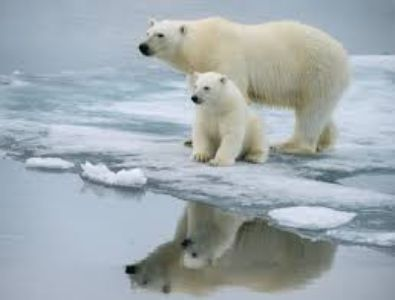bear: (145, 17, 349, 98), (189, 70, 267, 168)
